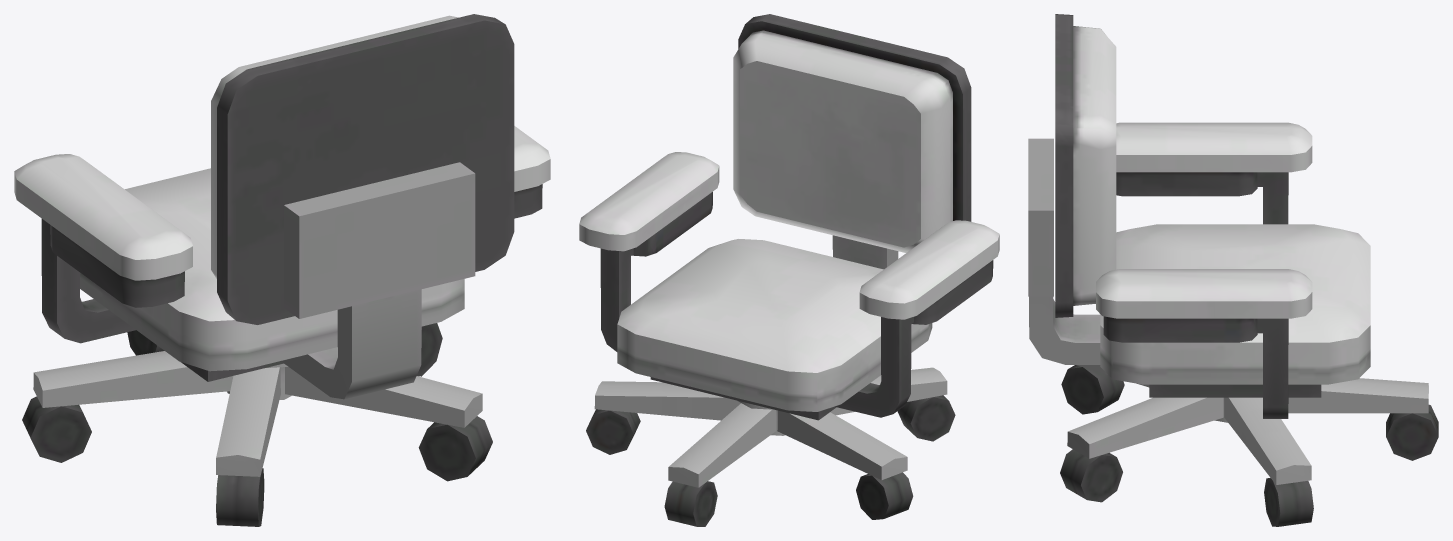
File: Pfb_Chair__5.fbx
3 views of the same model, side by side, from view 1: azimuth 30°, elevation 25°; view 2: azimuth 150°, elevation 25°; view 3: azimuth 270°, elevation 25° (orthographic). The views are drawn at different scales.
Parts seen in each view (by area): view 1: Mat_Chair_01; view 2: Mat_Chair_01; view 3: Mat_Chair_01.
Part boxes in pixels (<box>): Mat_Chair_01: <box>14,14,550,526</box>; Mat_Chair_01: <box>579,14,999,526</box>; Mat_Chair_01: <box>1028,14,1438,526</box>.
Bounding box in the file's own units: 1.02 × 1.06 × 1.
Materials: 1 (1 with a texture image).
